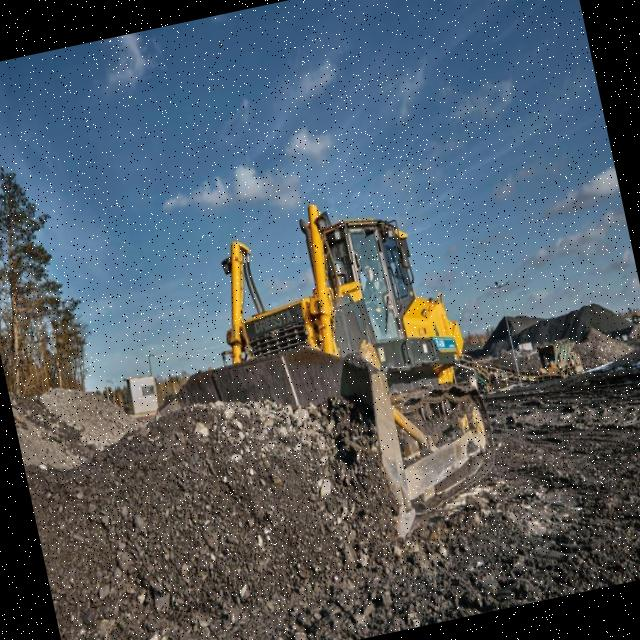Bulldozer: (98, 152, 530, 587)
